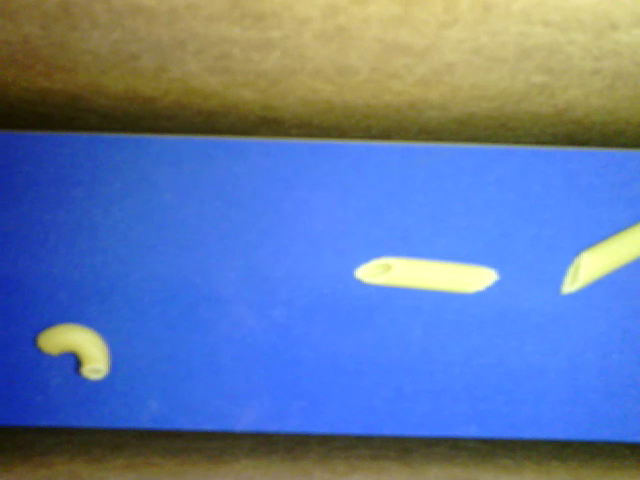elbow: (36, 322, 110, 381)
penne: (559, 221, 639, 297), (352, 255, 499, 295)
